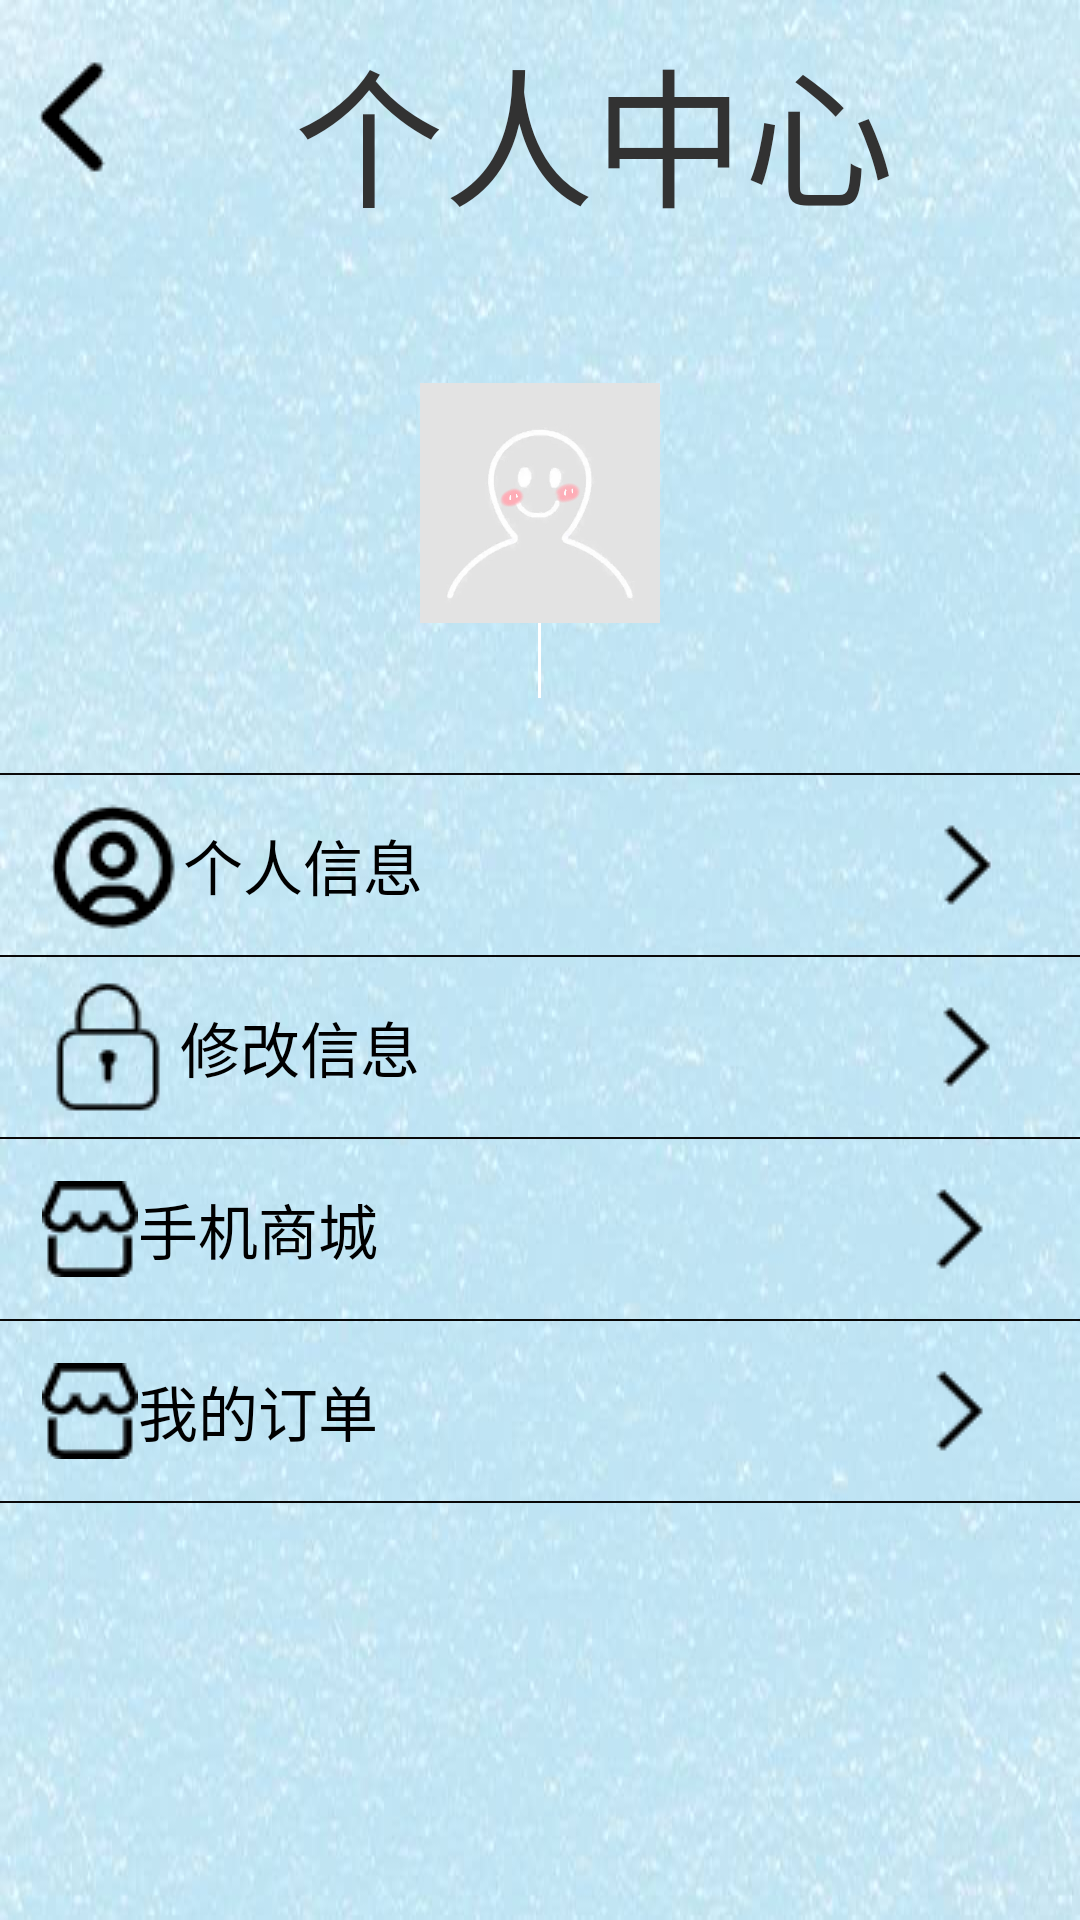

Icons on this 1080px x 1920px Android screen, each with its box as (x1, y1, x2, y2):
touxiang: (420, 383, 660, 623)
